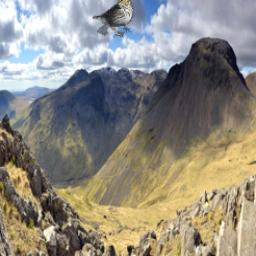Sparrow: (93, 0, 134, 37)
